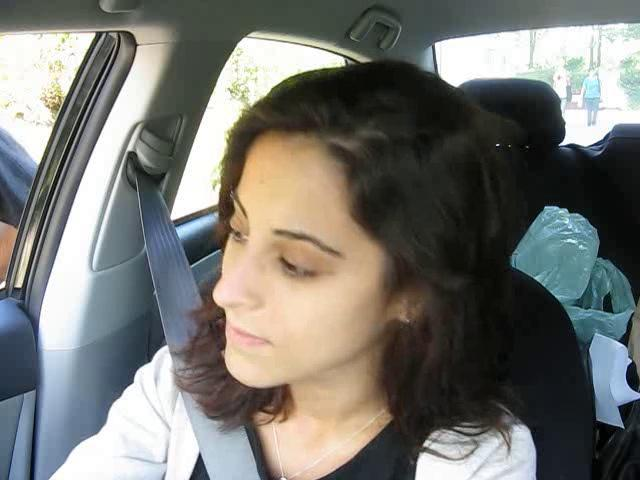close_eyeL: (212, 196, 259, 255)
close_eyeR: (271, 241, 342, 291)
no_yawn: (199, 310, 291, 366)
